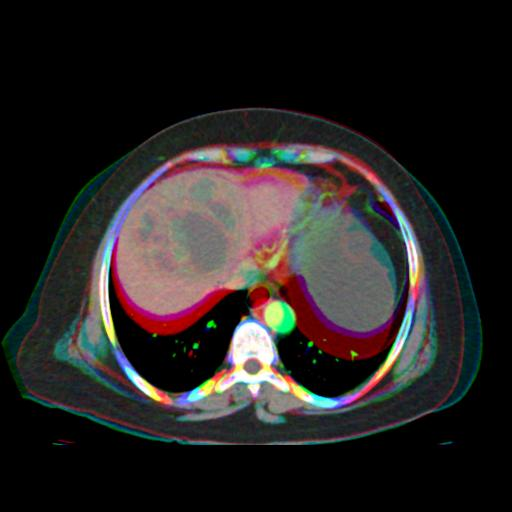Abscess: (139, 172, 236, 281)
